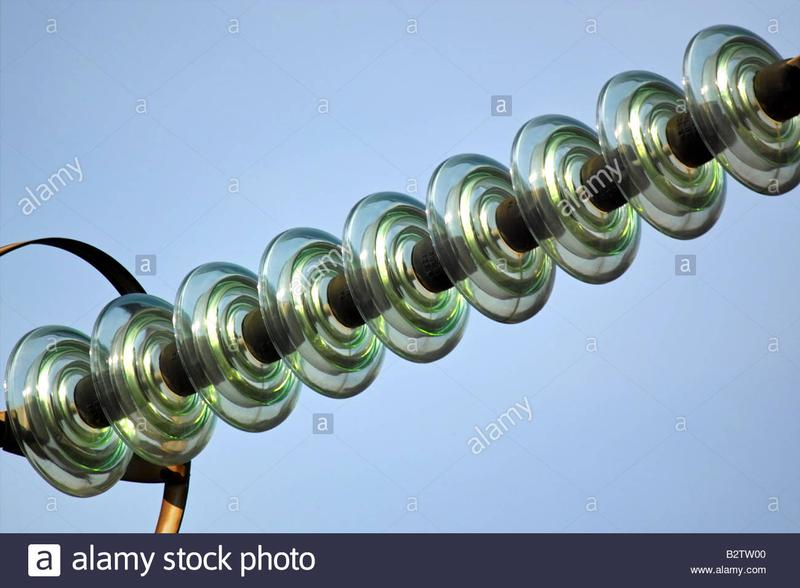isolator: (2, 23, 800, 499)
